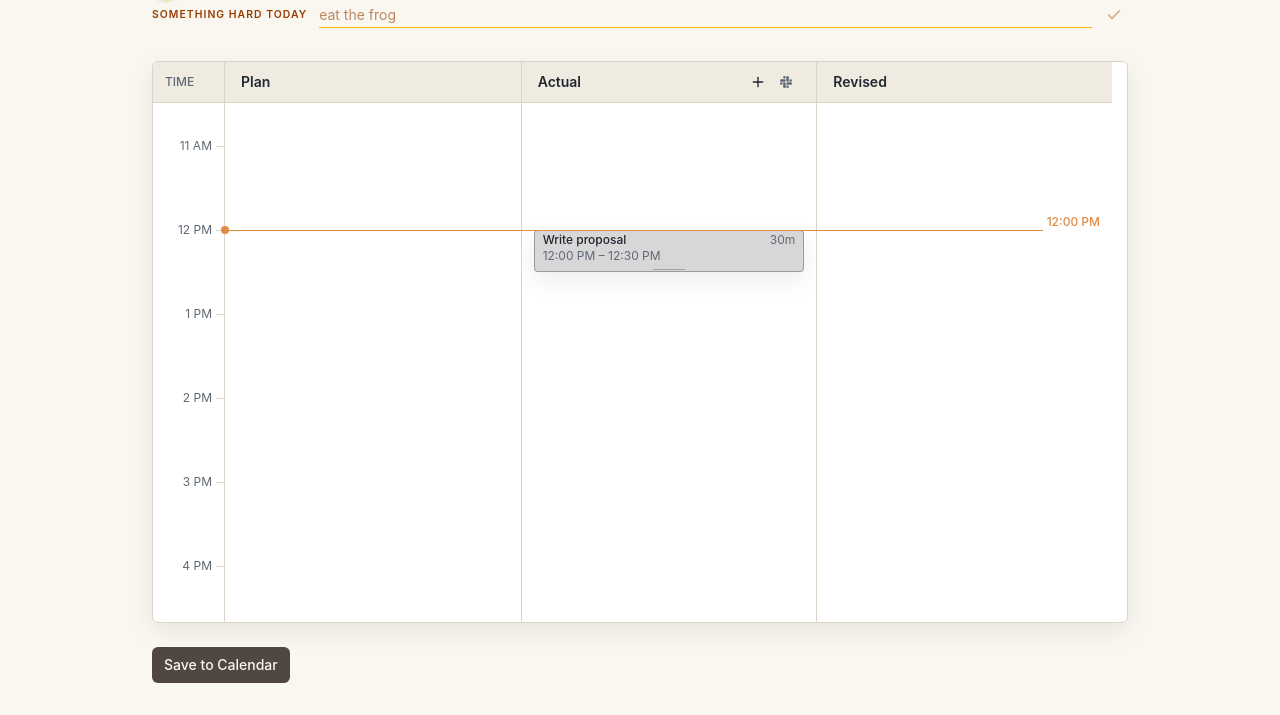
Scenario: App operation toasts › retries a failed manual save from a persistent toast and replaces it with success
(page scrolled)
Click the button "Save to Calendar" at {"x": 221, "y": 665}, box x1=152 y1=647 x2=290 y2=683
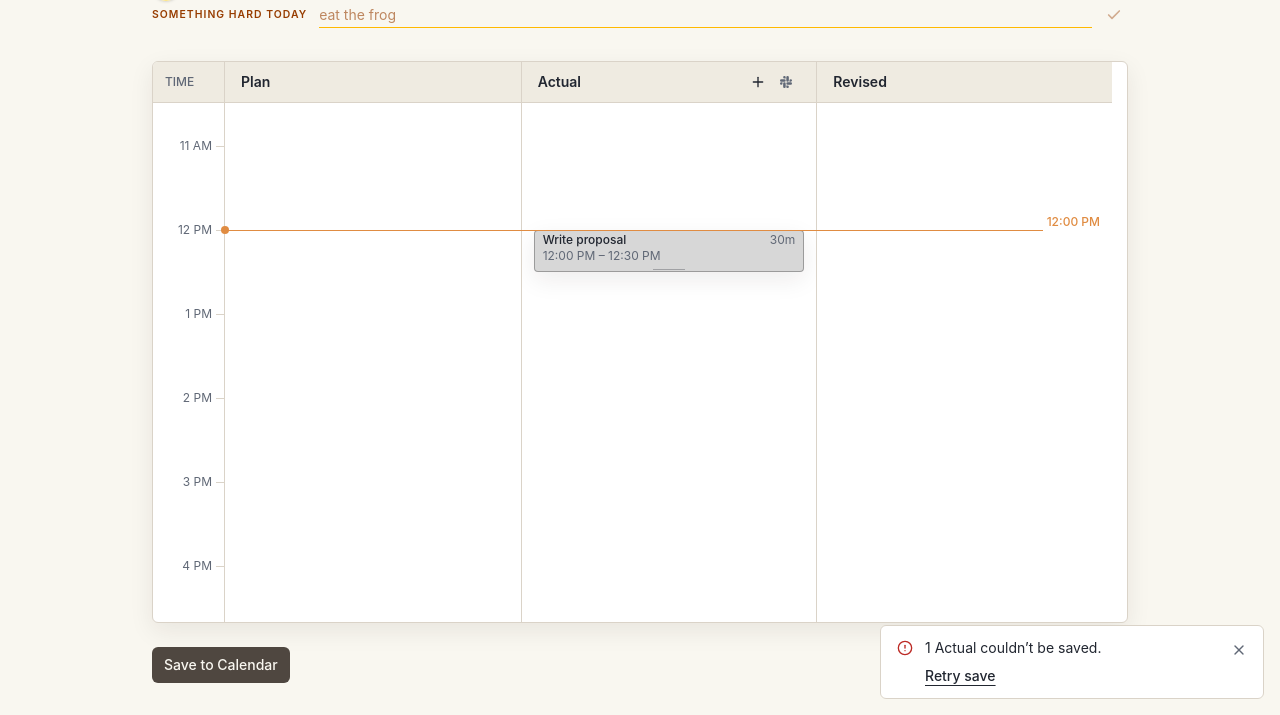
Now the message with test id "calendar-save-toast" shows "1 Actual couldn’t be saved.", box x1=925 y1=639 x2=1101 y2=656
Click the button "Retry save" at {"x": 960, "y": 676}, box x1=925 y1=666 x2=996 y2=686
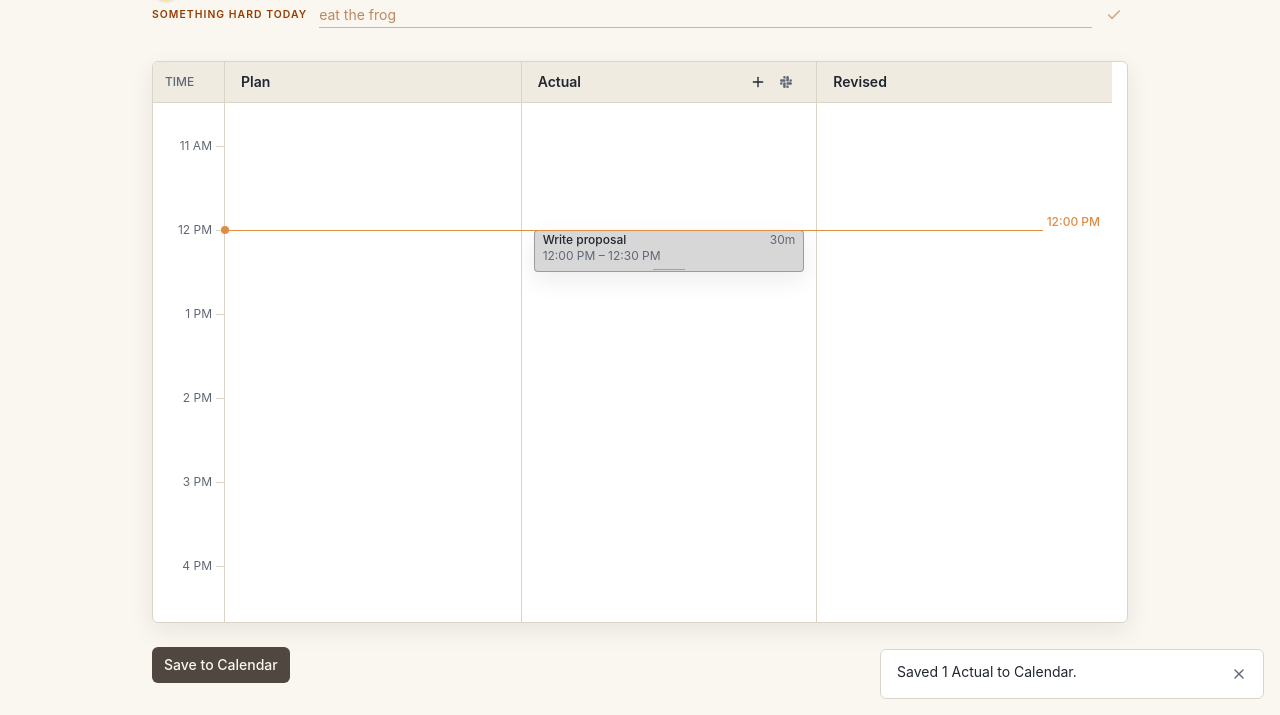
Now the message with test id "calendar-save-toast" reads "Saved 1 Actual to Calendar.", box x1=897 y1=663 x2=1077 y2=680
